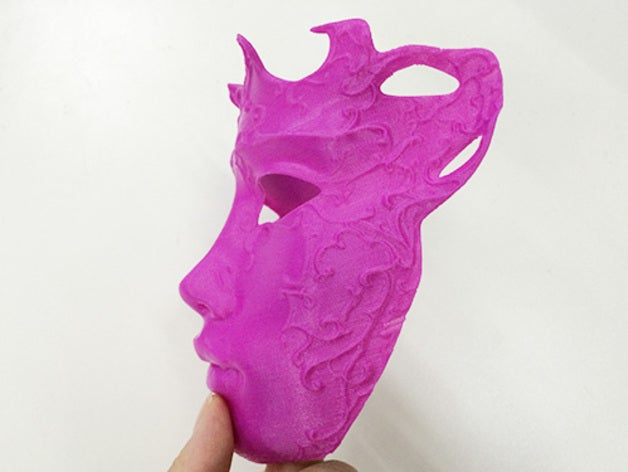Good: (168, 8, 514, 472)
